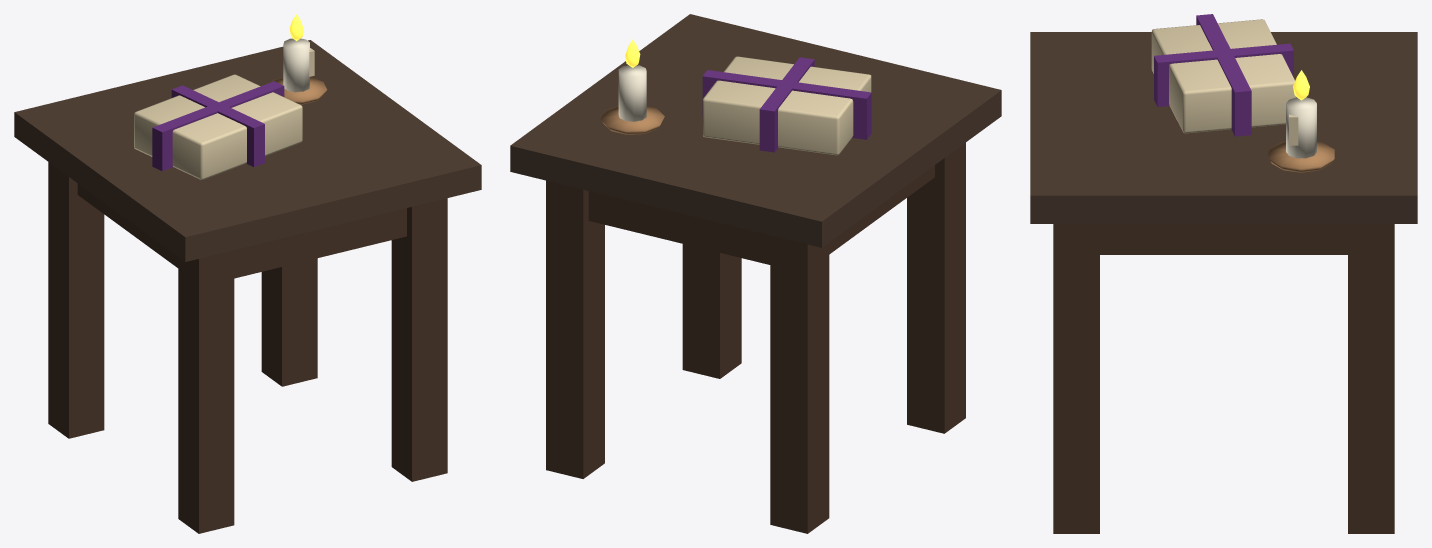
The model's file is letters_table.glb.
3 views of the same model, side by side, from view 1: azimuth 30°, elevation 25°; view 2: azimuth 150°, elevation 25°; view 3: azimuth 270°, elevation 25° (orthographic). The views are drawn at different scales.
Visible parts, largest first — view 1: letters_table; view 2: letters_table; view 3: letters_table.
Boxes of the visible parts, x1,y1,x2,y2 form: letters_table: (14,14,481,533); letters_table: (510,14,1001,533); letters_table: (1030,14,1417,533).
Size of the model in its own units: 0.5 by 0.628 by 0.5.
